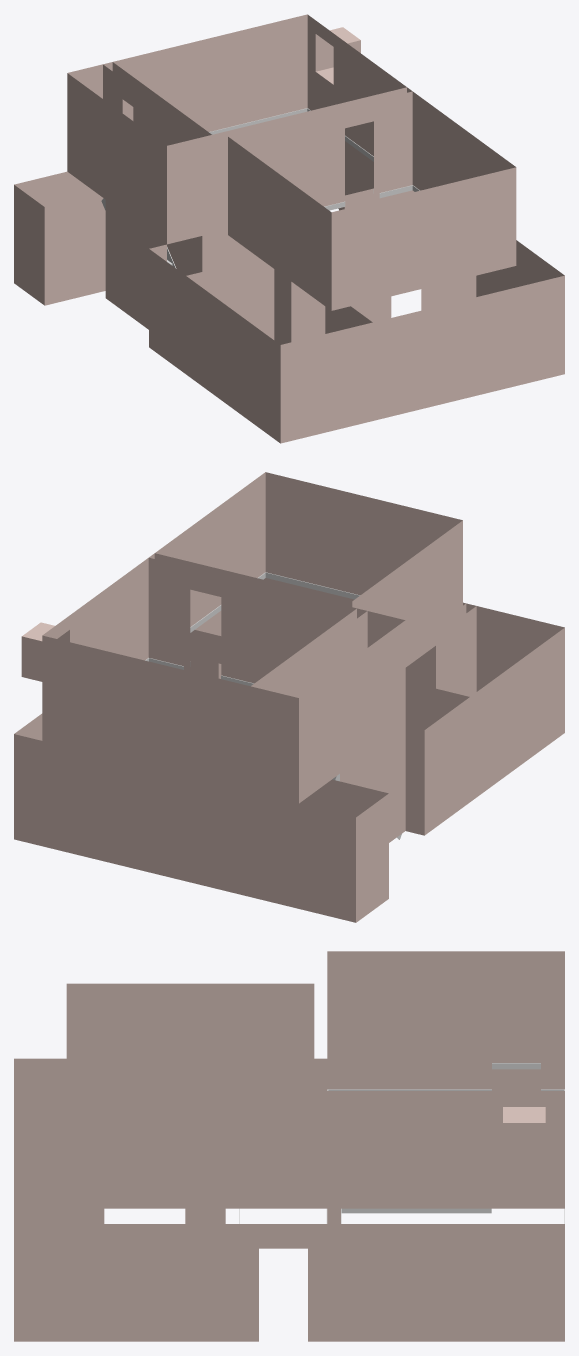
Rendered from House_Walls_Seperated.fbx.
3 views of the same model, one above another, from view 1: azimuth 30°, elevation 25°; view 2: azimuth 150°, elevation 25°; view 3: azimuth 270°, elevation 25° (orthographic). The views are drawn at different scales.
Parts seen in each view (by area): view 1: wall.004, wall.029, wall.022, wall.012, wall.027, wall.028, wall.030, wall.021, wall.020, wall.002, wall, wall.008 (+13 smaller); view 2: wall.008, wall.022, wall.012, wall.029, wall.027, wall.030, wall.021, wall.028, wall.004, wall.033, wall.005, wall.013 (+10 smaller); view 3: wall.027, wall.007, wall.006, wall.028, wall.023, wall.030, wall.013, wall.012, wall.024, wall.032, wall.009, wall.008 (+3 smaller).
Boxes of the visible parts, x1=… form: wall.004: x1=280, y1=275, x2=564, y2=443; wall.029: x1=331, y1=167, x2=516, y2=310; wall.022: x1=68, y1=14, x2=307, y2=131; wall.012: x1=149, y1=249, x2=280, y2=443; wall.027: x1=307, y1=15, x2=515, y2=190; wall.028: x1=228, y1=137, x2=331, y2=310; wall.030: x1=67, y1=73, x2=166, y2=244; wall.021: x1=167, y1=104, x2=339, y2=244; wall.020: x1=228, y1=108, x2=344, y2=206; wall.002: x1=44, y1=194, x2=105, y2=305; wall: x1=192, y1=262, x2=391, y2=339; wall.008: x1=14, y1=171, x2=97, y2=305; wall.008: x1=14, y1=734, x2=388, y2=922; wall.022: x1=42, y1=635, x2=298, y2=803; wall.012: x1=424, y1=628, x2=564, y2=835; wall.029: x1=265, y1=472, x2=462, y2=595; wall.027: x1=21, y1=472, x2=265, y2=681; wall.030: x1=299, y1=620, x2=405, y2=803; wall.021: x1=221, y1=575, x2=405, y2=683; wall.028: x1=352, y1=520, x2=462, y2=667; wall.004: x1=264, y1=578, x2=564, y2=691; wall.033: x1=148, y1=557, x2=184, y2=669; wall.005: x1=340, y1=726, x2=405, y2=842; wall.013: x1=425, y1=603, x2=476, y2=696; wall.027: x1=66, y1=1091, x2=564, y2=1208; wall.007: x1=308, y1=1224, x2=564, y2=1341; wall.006: x1=14, y1=1224, x2=258, y2=1341; wall.028: x1=66, y1=983, x2=314, y2=1090; wall.023: x1=327, y1=977, x2=491, y2=1089; wall.030: x1=327, y1=951, x2=564, y2=1062; wall.013: x1=14, y1=1106, x2=104, y2=1223; wall.012: x1=14, y1=1058, x2=327, y2=1106; wall.024: x1=541, y1=977, x2=564, y2=1089; wall.032: x1=492, y1=977, x2=540, y2=1001; wall.009: x1=259, y1=1224, x2=307, y2=1248; wall.008: x1=492, y1=1069, x2=540, y2=1090.
Bounding box in the file's own units: 902 × 544 × 1125.
